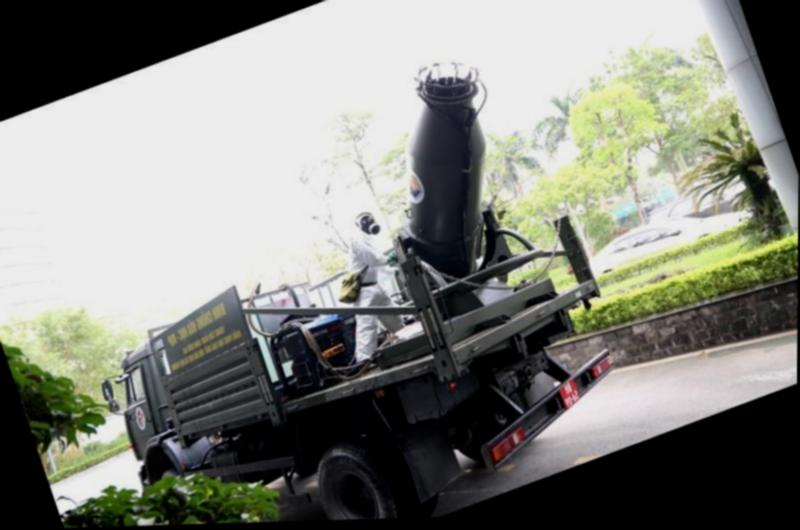License_Plate: (553, 377, 585, 410)
